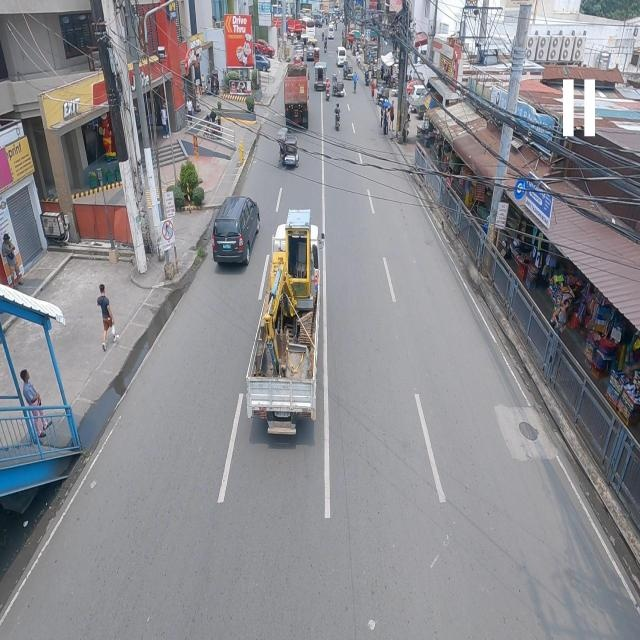Truck: (245, 226, 322, 440), (284, 63, 310, 137)
